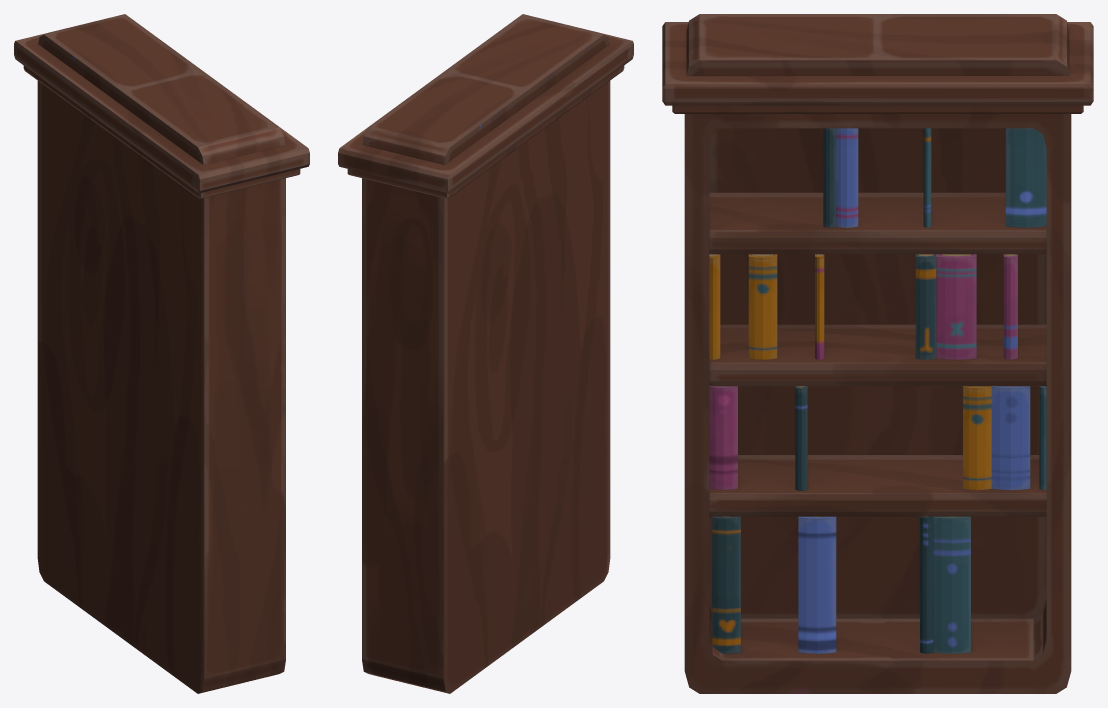
The model's file is Bookshelf.fbx.
3 renders of one model, left to right at view 1: azimuth 30°, elevation 25°; view 2: azimuth 150°, elevation 25°; view 3: azimuth 270°, elevation 25°, orthographic. The views are drawn at different scales.
Parts seen in each view (by area): view 1: Cupboard; view 2: Cupboard; view 3: Cupboard.
Part boxes in pixels (x1,y1,x2,y2): Cupboard: (14,14,309,693); Cupboard: (338,14,633,693); Cupboard: (662,14,1093,693).
Bounding box in the file's own units: 59.83 × 280 × 173.
